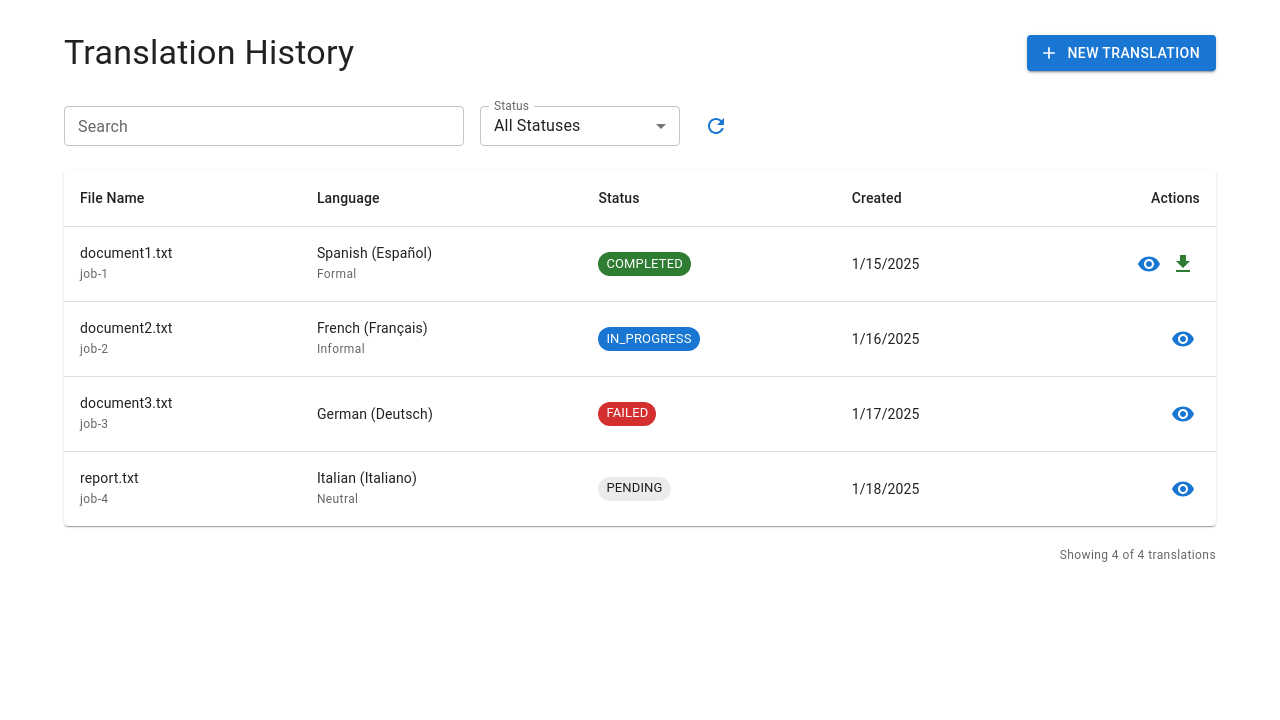
Test: TranslationHistory › Filtering › should filter jobs by status
Check: the text "document1.txt" is shown, box [80,245,173,261]
Check: the text "document2.txt" is shown, box [80,320,173,336]
Note: Filter by COMPLETED status
Click the dropdown labelled "All Statuses". click: click(537, 126)
box: [494,116,580,136]
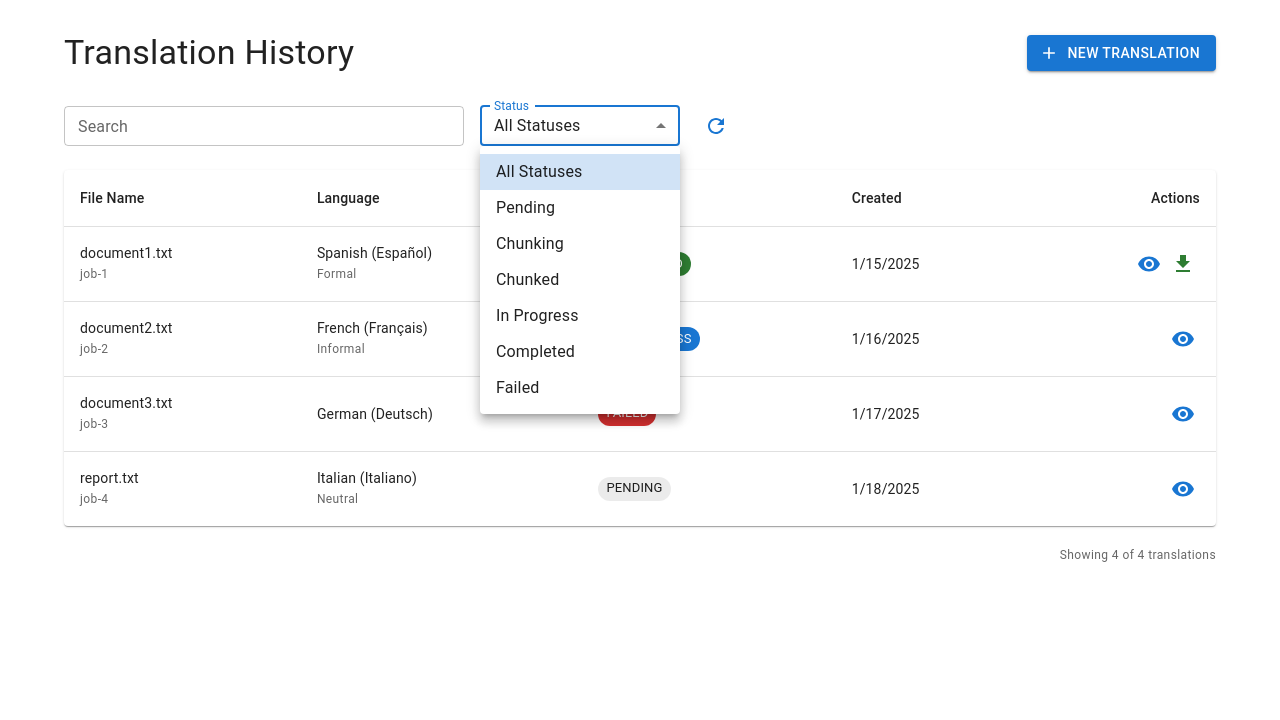
Click the option "Completed". click: click(536, 352)
box: [496,342,575,361]
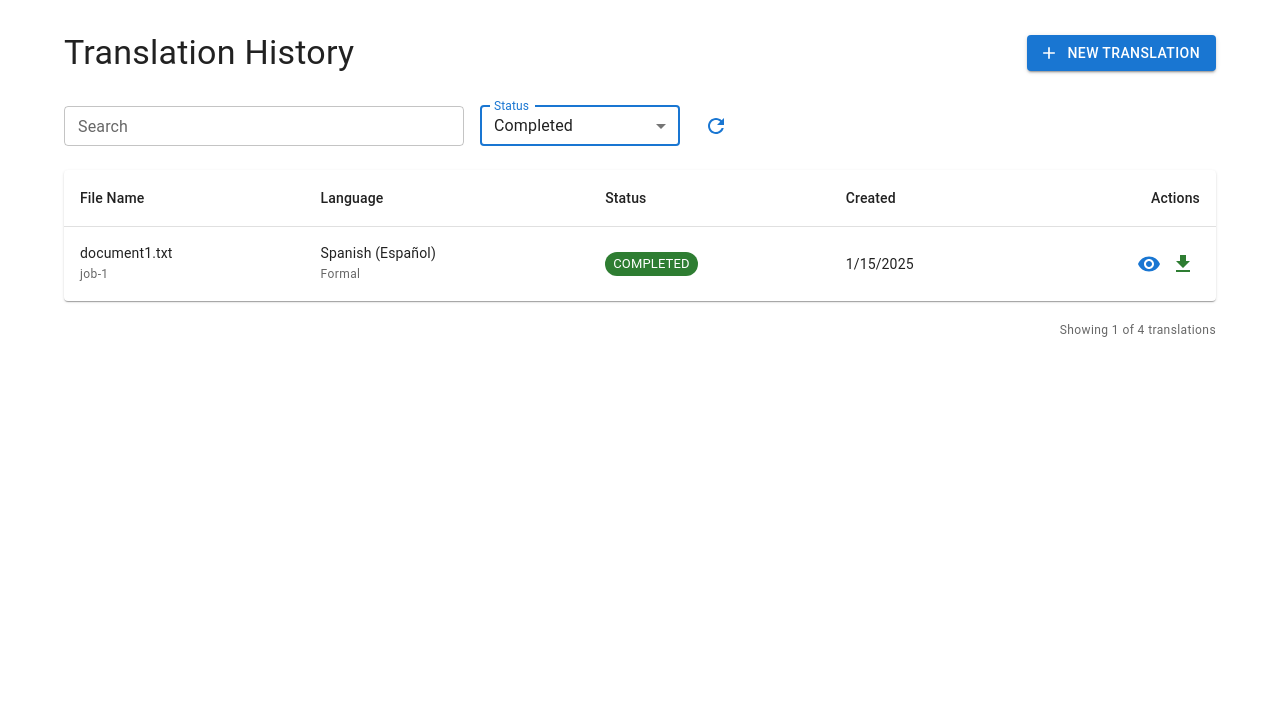
Check: the text "document2.txt" is gone
Check: the text "document3.txt" is gone
Check: the text "report.txt" is gone
